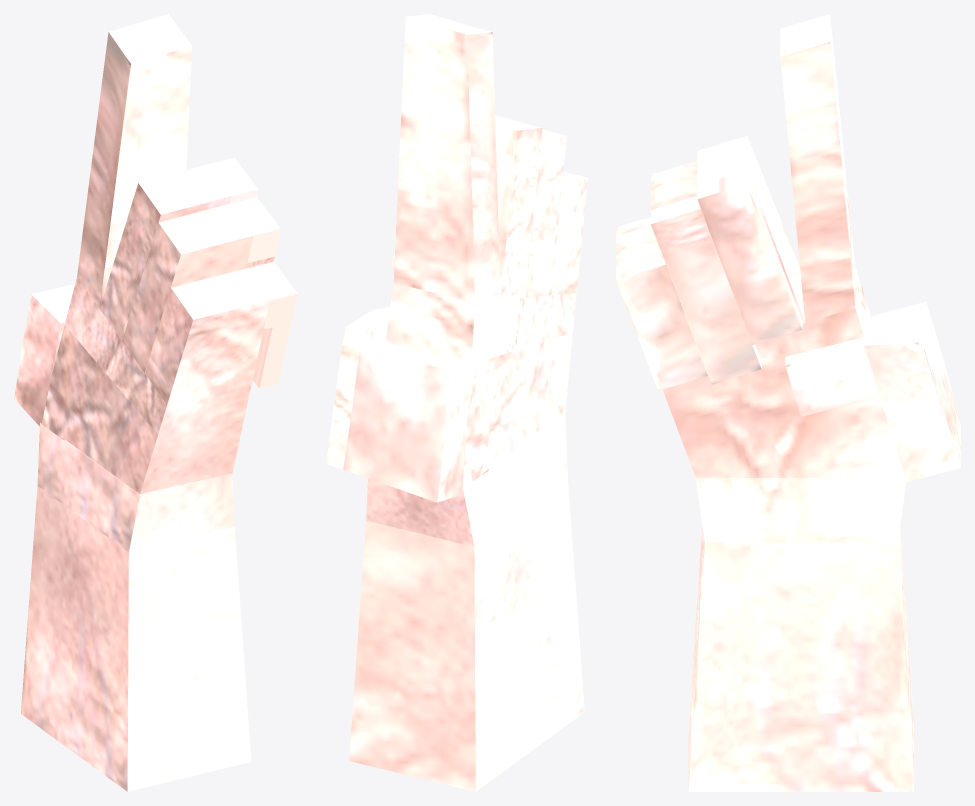
File: playerHand.glb
3 views of the same model, side by side, from view 1: azimuth 30°, elevation 25°; view 2: azimuth 150°, elevation 25°; view 3: azimuth 270°, elevation 25° (orthographic). The views are drawn at different scales.
Visible parts, largest first — view 1: Cube; view 2: Cube; view 3: Cube.
Boxes of the visible parts, bbox=[...] form: Cube: bbox=[14, 14, 297, 791]; Cube: bbox=[326, 14, 587, 791]; Cube: bbox=[616, 14, 960, 791].
Size of the model in its own units: 0.9723 by 4.81 by 2.02.
